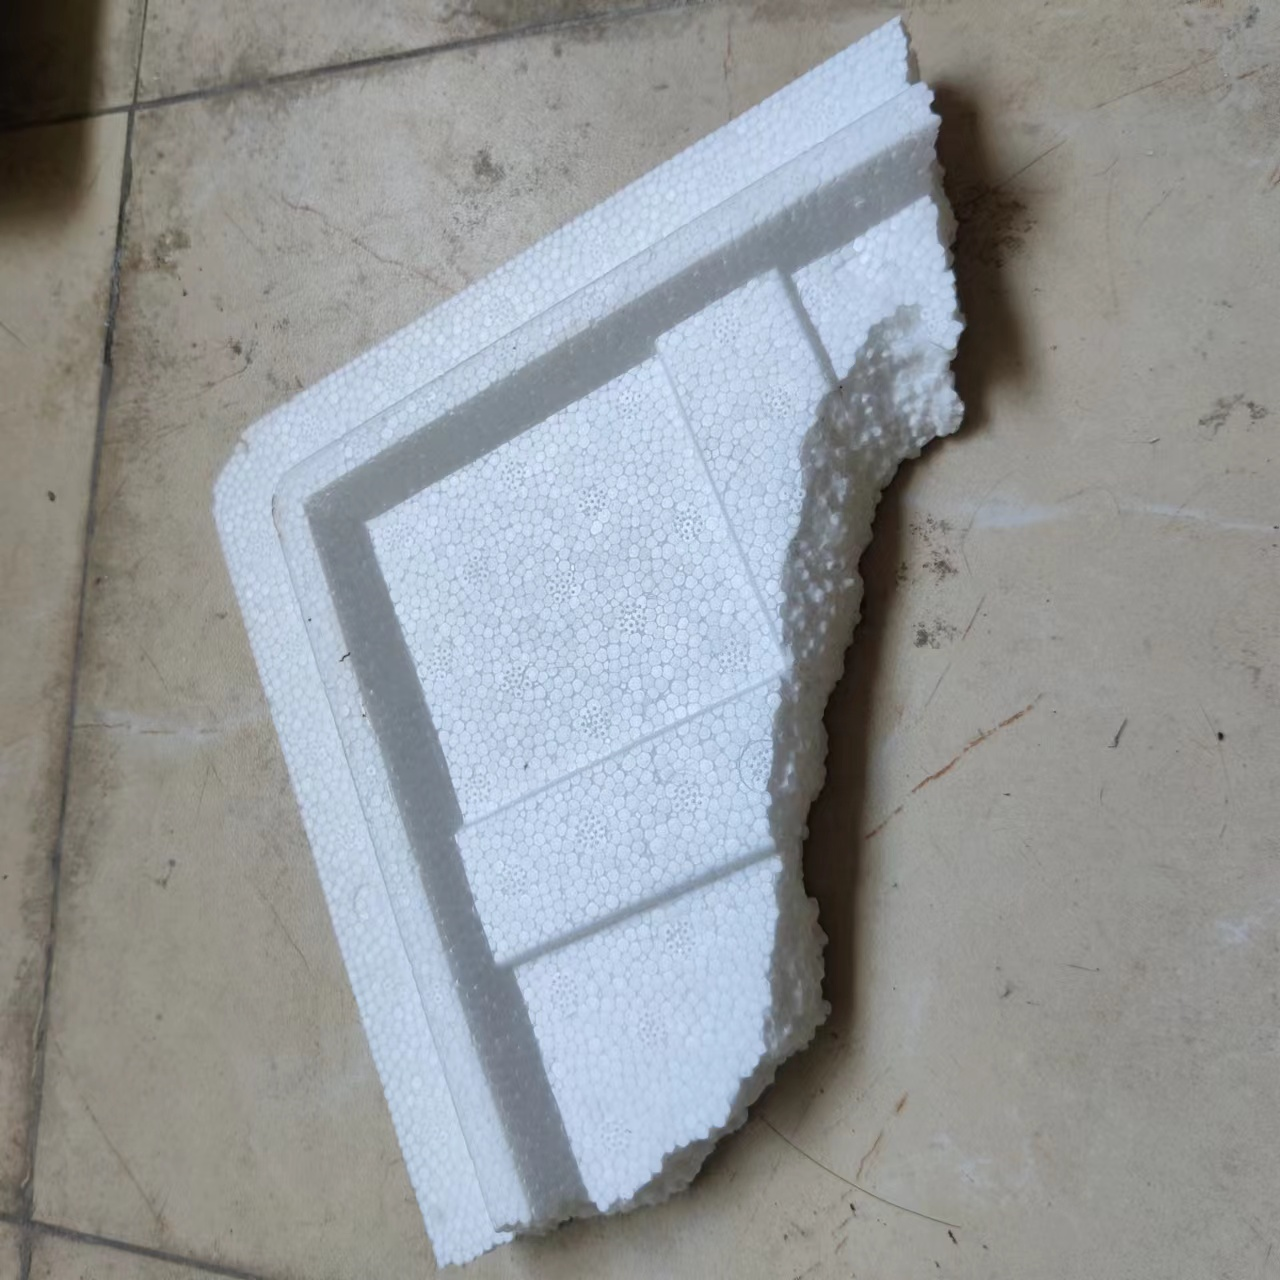5/可回收垃圾/泡沫: (210, 18, 965, 1267)
